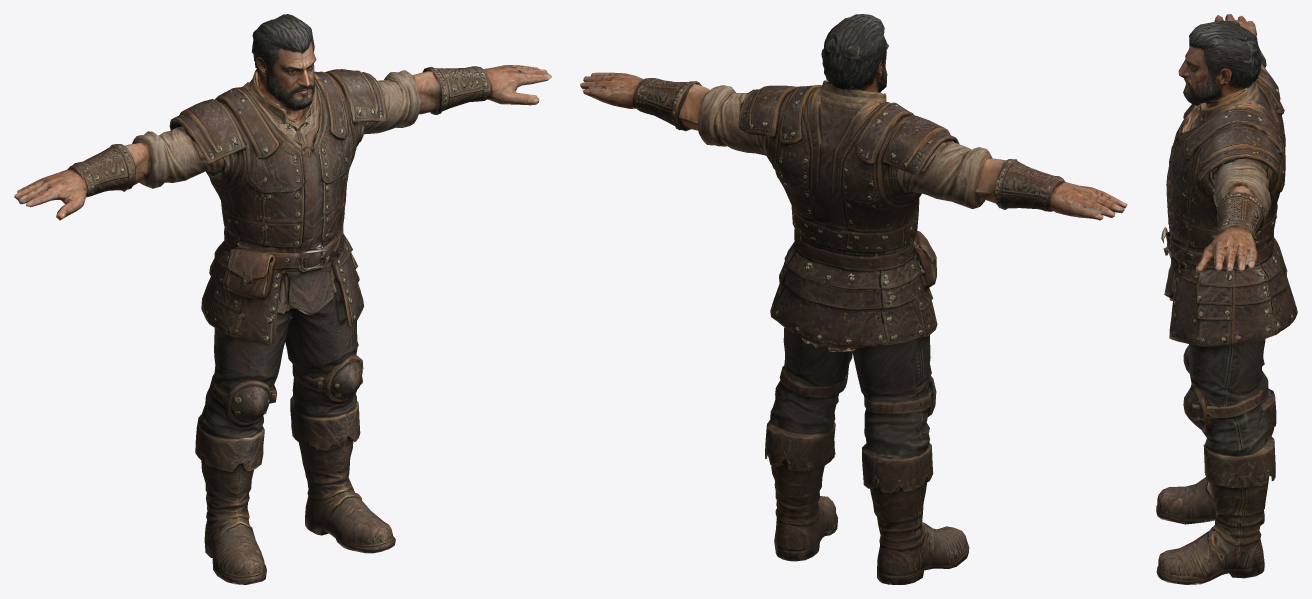
The model's file is 04_우두머리_시안.glb.
3 renders of one model, left to right at view 1: azimuth 30°, elevation 25°; view 2: azimuth 150°, elevation 25°; view 3: azimuth 270°, elevation 25°, orthographic. The views are drawn at different scales.
Visible parts, largest first — view 1: texture_mapping; view 2: texture_mapping; view 3: texture_mapping.
Boxes of the visible parts, x1=… form: texture_mapping: x1=14, y1=14, x2=551, y2=584; texture_mapping: x1=580, y1=14, x2=1127, y2=584; texture_mapping: x1=1156, y1=14, x2=1297, y2=584.
Bounding box in the file's own units: 1 × 0.9512 × 0.2348.
1 material, 1 textured.
